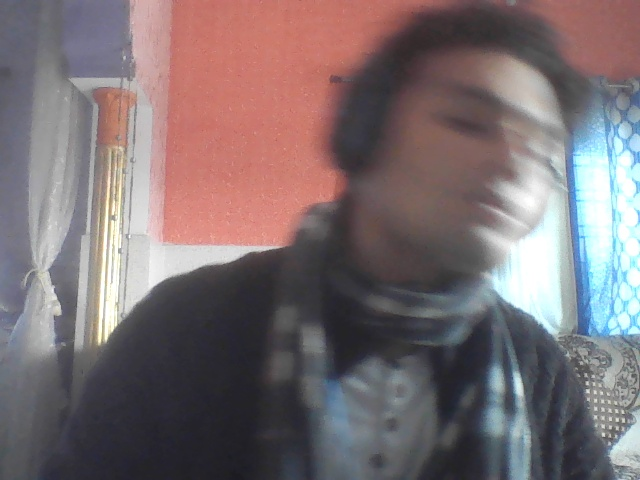real: (350, 0, 573, 316)
